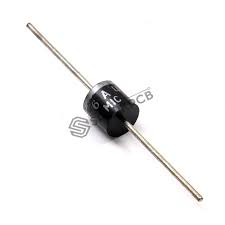diode: (67, 66, 156, 155)
